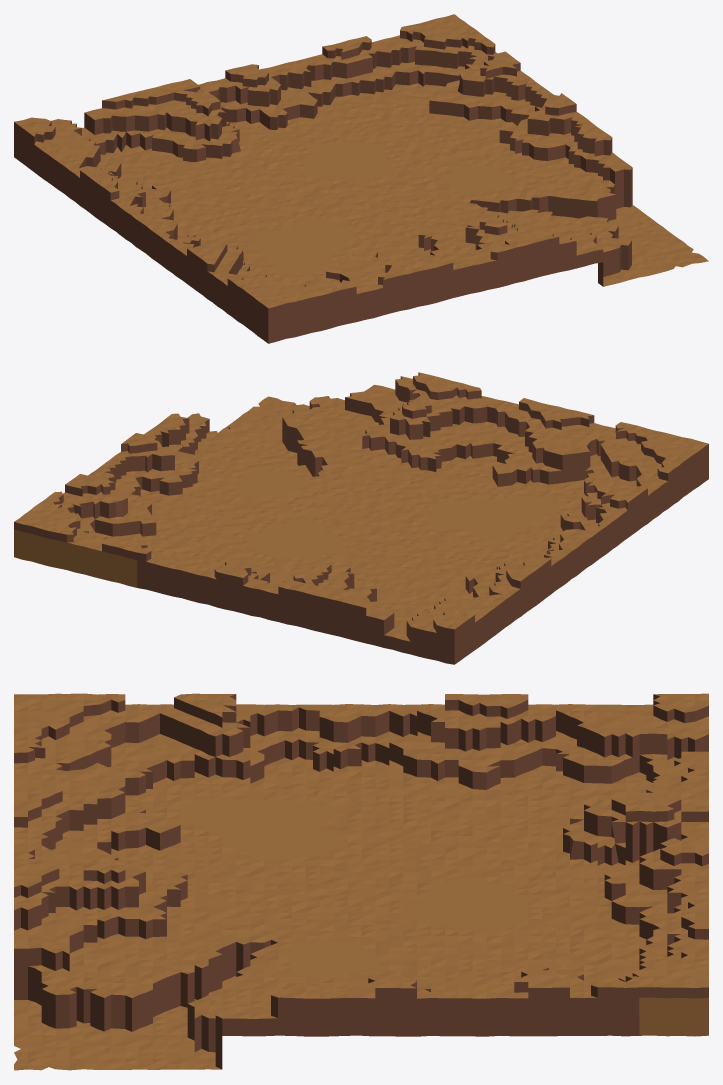
File: ground_3_desert.fbx
3 renders of one model, top to bottom at view 1: azimuth 30°, elevation 25°; view 2: azimuth 150°, elevation 25°; view 3: azimuth 270°, elevation 25°, orthographic. The views are drawn at different scales.
Parts seen in each view (by area): view 1: MAP_desert; view 2: MAP_desert; view 3: MAP_desert.
Part boxes in pixels (x1,y1,x2,y2): MAP_desert: (14, 14, 708, 343); MAP_desert: (14, 372, 708, 664); MAP_desert: (14, 693, 708, 1070).
Size of the model in its own units: 666 by 88.14 by 666.
